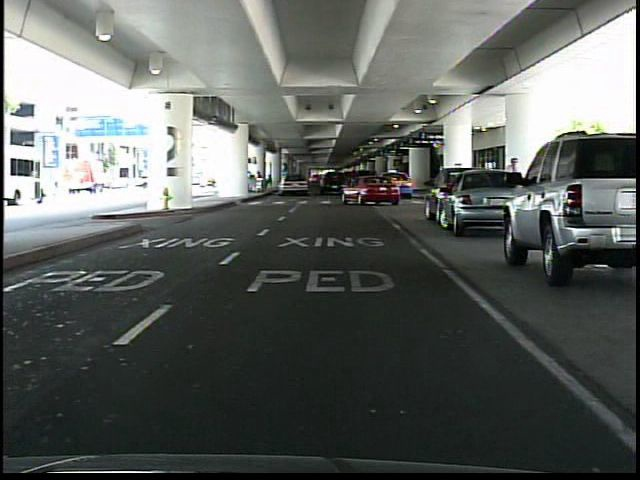person: (499, 151, 523, 226)
